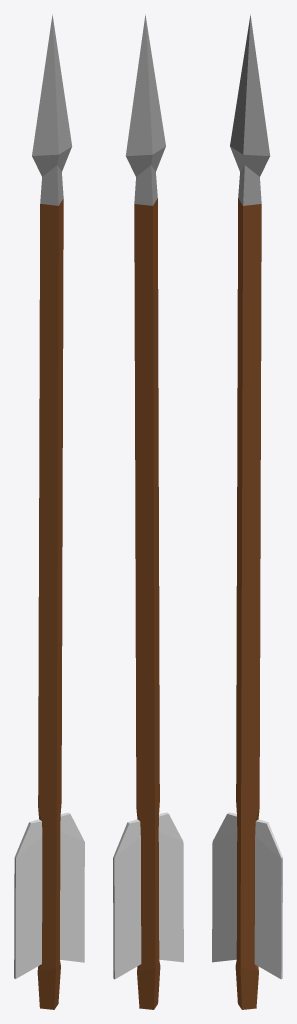
File: Low Poly Weapon Pack - by Kickin It Studios.fbx_Piercing_Arrow.glb
3 renders of one model, left to right at view 1: azimuth 30°, elevation 25°; view 2: azimuth 210°, elevation 25°; view 3: azimuth 330°, elevation 25°, orthographic.
Parts seen in each view (by area): view 1: Armor Piercing Arrow; view 2: Armor Piercing Arrow; view 3: Armor Piercing Arrow.
Part boxes in pixels (left/top/right/bottom): Armor Piercing Arrow: left=14, top=14, right=84, bottom=1009; Armor Piercing Arrow: left=113, top=14, right=183, bottom=1009; Armor Piercing Arrow: left=212, top=14, right=282, bottom=1009.
Size of the model in its own units: 0.0619 by 0.8451 by 0.021.
